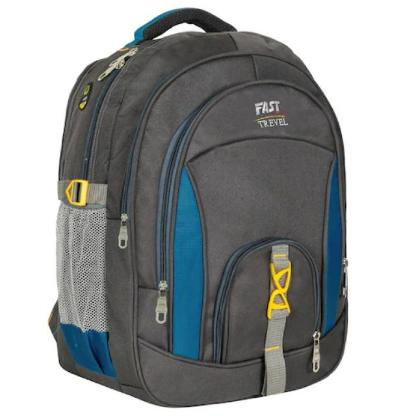bag: (33, 0, 358, 410)
